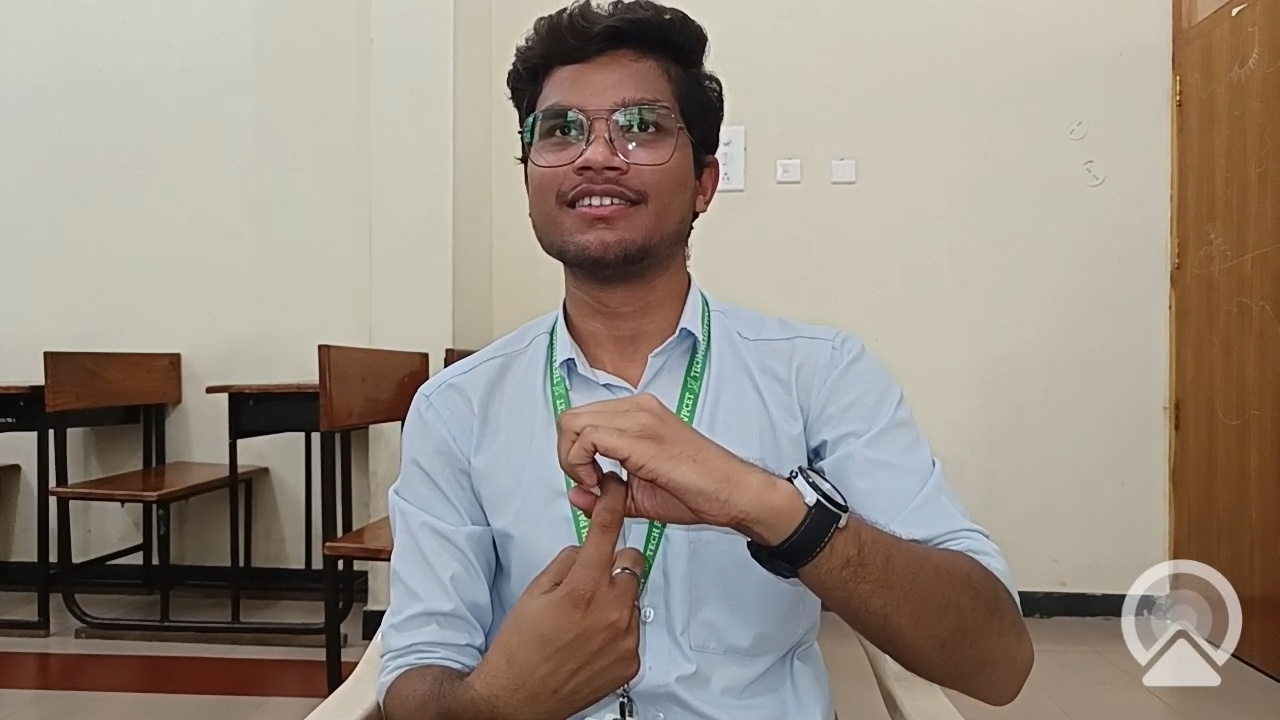Q: (382, 340, 815, 689)
